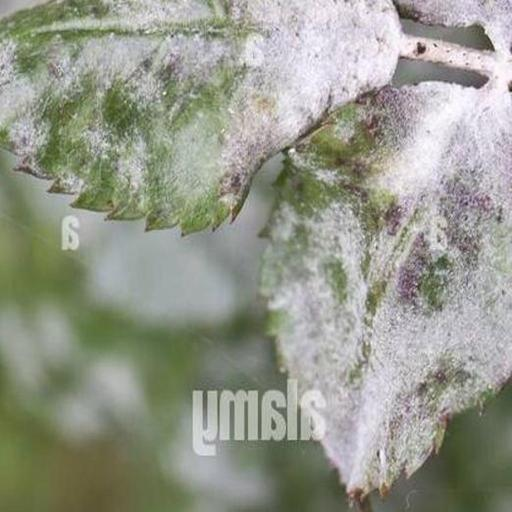powdery_mildew: (264, 0, 512, 502), (0, 0, 401, 231)
